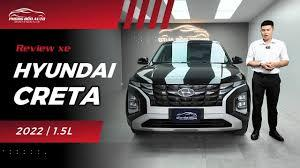hyundai: (8, 8, 45, 22)
